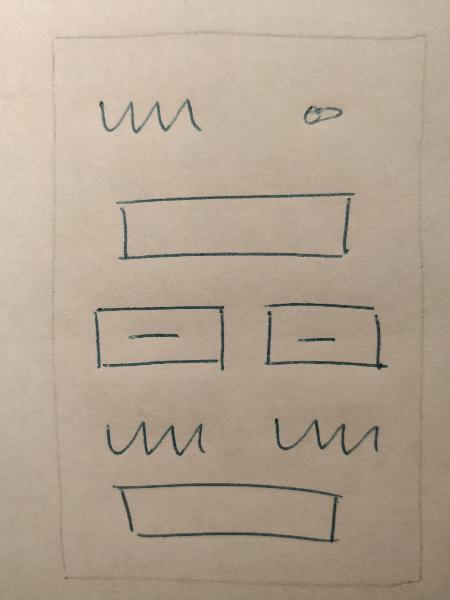button: (252, 289, 395, 377), (84, 296, 239, 376)
switch: (293, 86, 349, 140)
text: (260, 398, 386, 469), (90, 404, 215, 468), (84, 88, 209, 143)
text_input: (107, 180, 359, 270), (99, 477, 351, 553)
